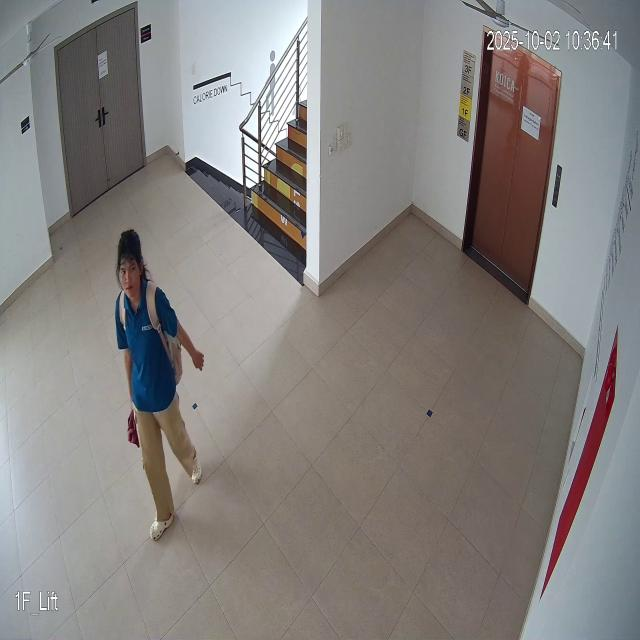face: (113, 225, 150, 303)
